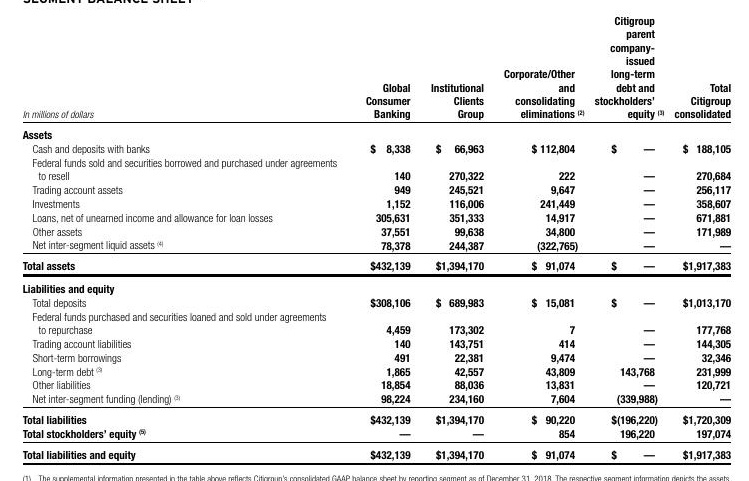table: (0, 0, 749, 481)
